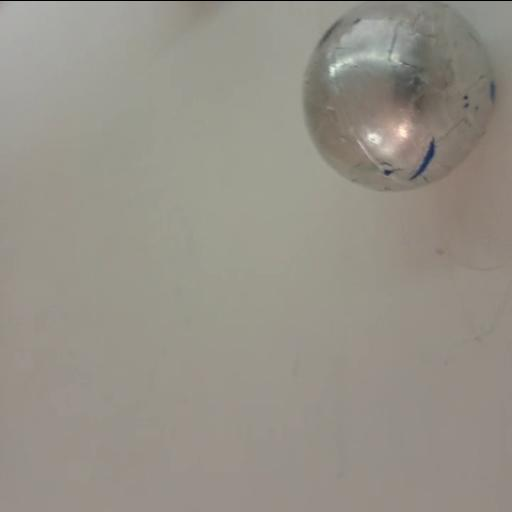alive: (298, 0, 498, 195)
